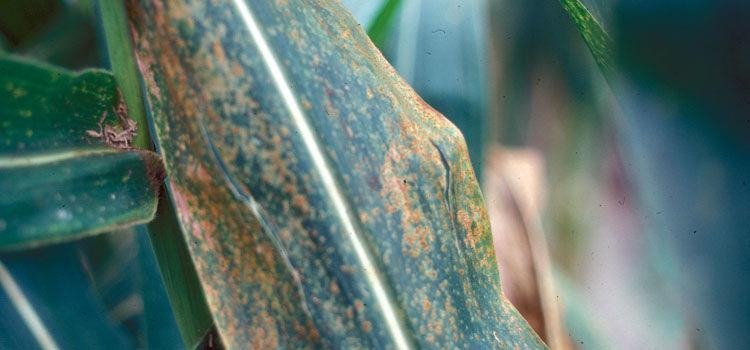Corn_Common_Rust: (94, 0, 551, 350)
